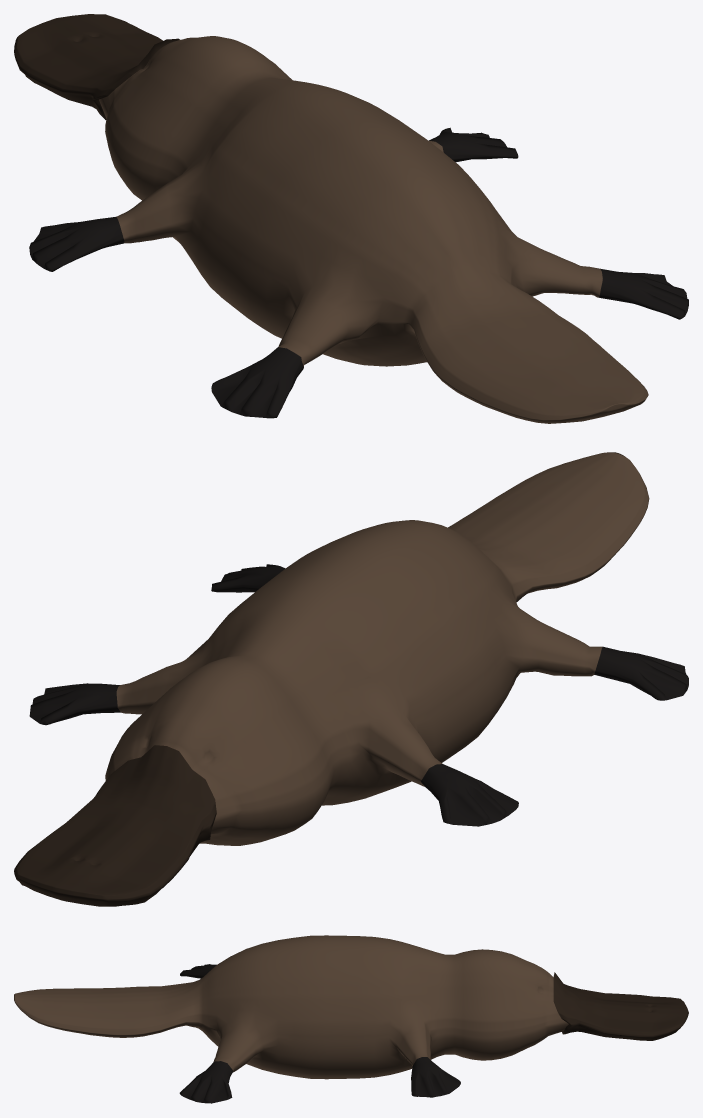
Rendered from Platypus_UV.fbx.
3 views of the same model, one above another, from view 1: azimuth 30°, elevation 25°; view 2: azimuth 150°, elevation 25°; view 3: azimuth 270°, elevation 25° (orthographic). The views are drawn at different scales.
Visible parts, largest first — view 1: polySurface13; view 2: polySurface13; view 3: polySurface13.
Part boxes in pixels (x1,y1,x2,y2): polySurface13: (14, 14, 688, 423); polySurface13: (14, 452, 688, 906); polySurface13: (14, 935, 688, 1103).
Bounding box in the file's own units: 4.03 × 1.74 × 8.31.
